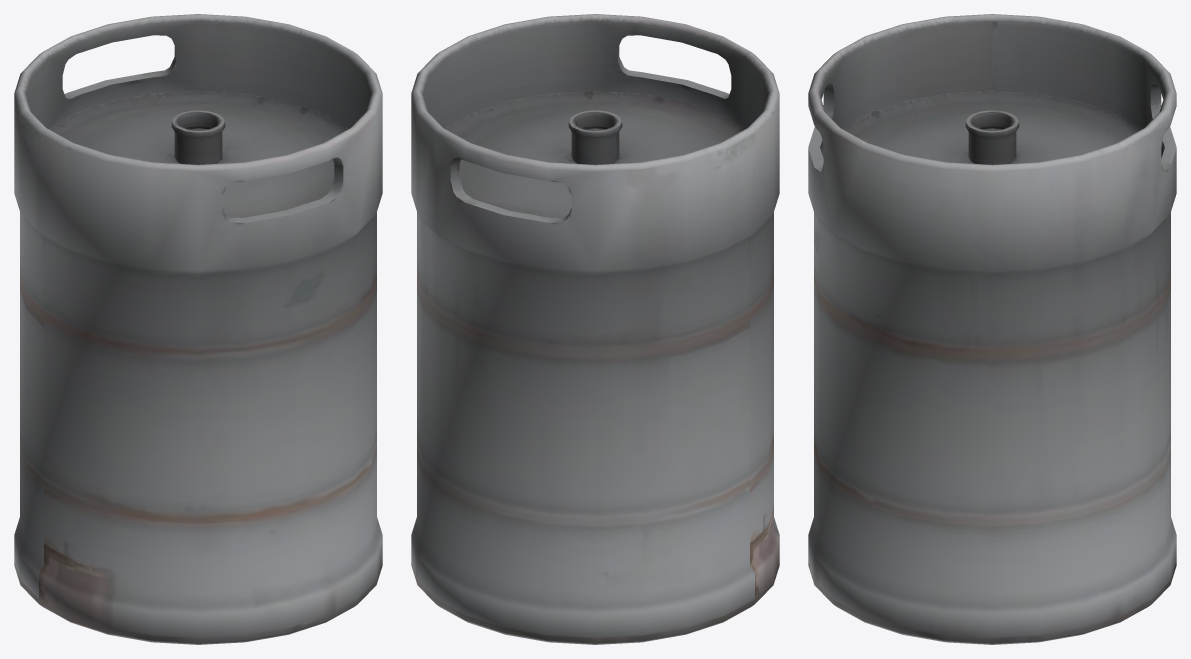
The picture shows the model from 3 angles, left to right: view 1: azimuth 30°, elevation 25°; view 2: azimuth 150°, elevation 25°; view 3: azimuth 270°, elevation 25°; orthographic projection.
Visible parts, largest first — view 1: body0_model0_lod0_mesh0; view 2: body0_model0_lod0_mesh0; view 3: body0_model0_lod0_mesh0.
Boxes of the visible parts, x1,y1,x2,y2 form: body0_model0_lod0_mesh0: (14, 14, 382, 644); body0_model0_lod0_mesh0: (411, 14, 779, 644); body0_model0_lod0_mesh0: (808, 14, 1176, 644).
Bounding box in the file's own units: 48 × 68.78 × 48.
Materials: 1 (1 with a texture image).
